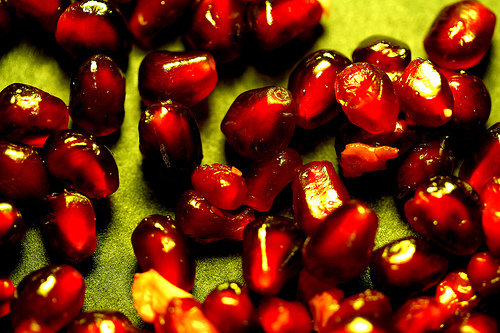pomogranate: (3, 0, 499, 331)
